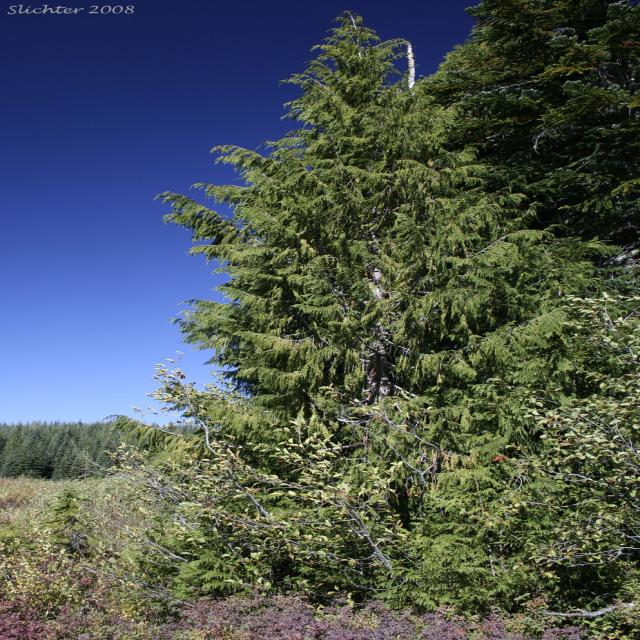Cupressus nootkatensis: (157, 14, 619, 621)
